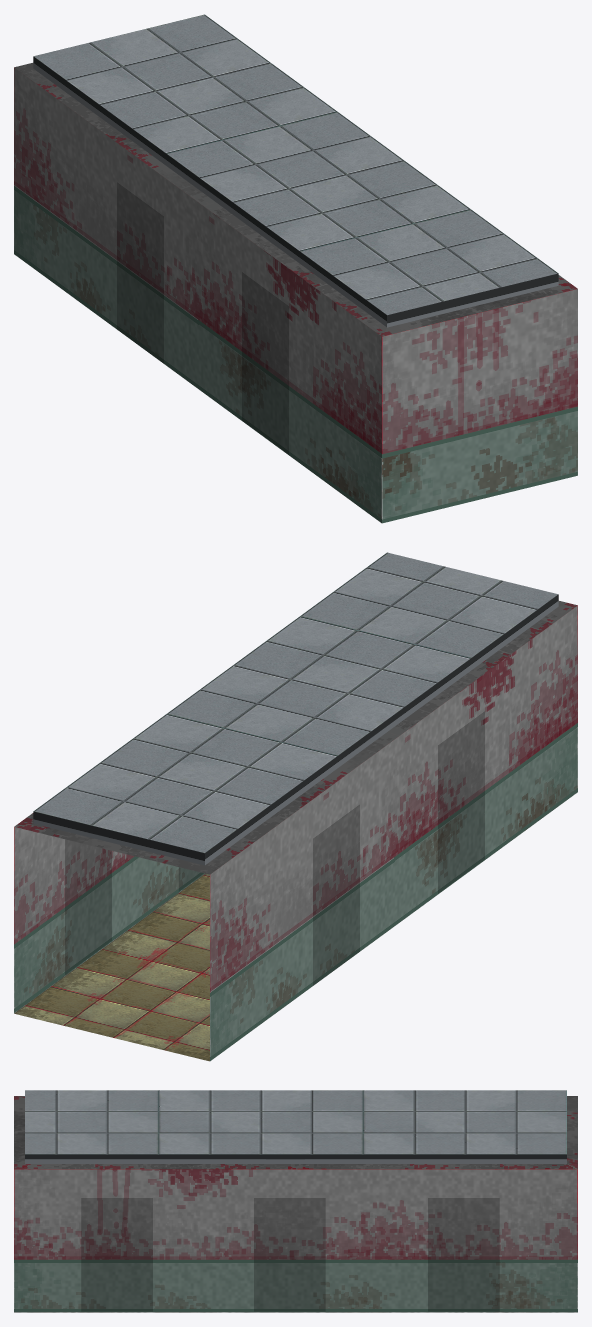
Rendered from Hallway.FBX.
3 views of the same model, one above another, from view 1: azimuth 30°, elevation 25°; view 2: azimuth 150°, elevation 25°; view 3: azimuth 270°, elevation 25° (orthographic). The views are drawn at different scales.
Visible parts, largest first — view 1: Hallway; view 2: Hallway; view 3: Hallway.
Part boxes in pixels (x1=…): Hallway: x1=14, y1=14, x2=577, y2=523; Hallway: x1=14, y1=552, x2=577, y2=1061; Hallway: x1=14, y1=1090, x2=577, y2=1312.
Bounding box in the file's own units: 41.78 × 40.74 × 136.
Materials: 1 (1 with a texture image).
